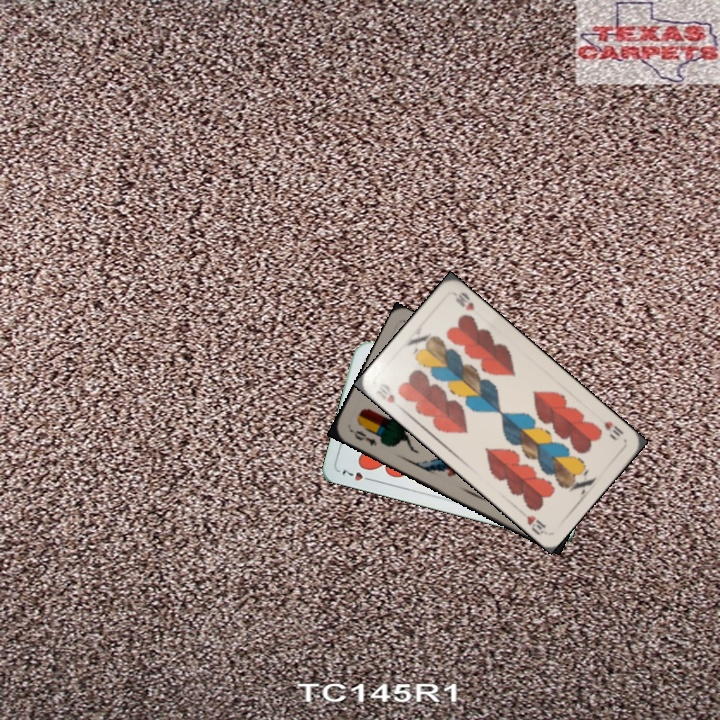EO: (346, 426, 379, 449)
H10: (372, 383, 398, 406), (600, 417, 626, 439)
H7: (338, 466, 376, 484)
